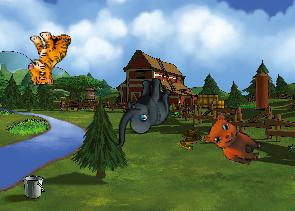bear: (200, 110, 268, 168)
elephant: (114, 77, 171, 147)
tiger: (25, 29, 73, 86)
